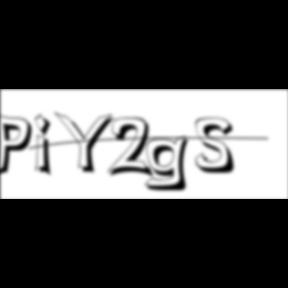2: (108, 117, 158, 181)
P: (0, 110, 38, 180)
S: (195, 117, 241, 176)
Y: (53, 110, 120, 176)
g: (145, 134, 197, 194)
i: (35, 112, 59, 180)
